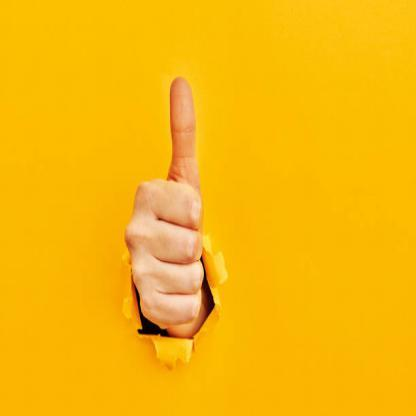thumb_up: (121, 70, 214, 334)
